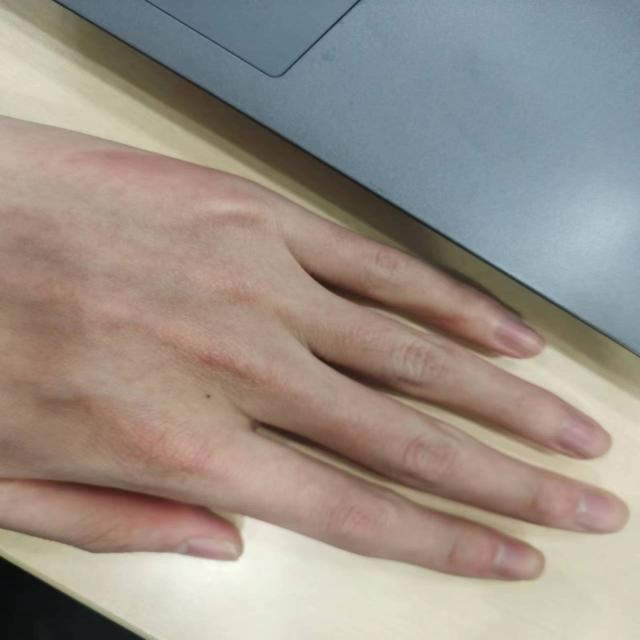Nail: (555, 418, 612, 458), (577, 490, 629, 533), (493, 318, 545, 356), (495, 542, 545, 579), (172, 537, 237, 561)
